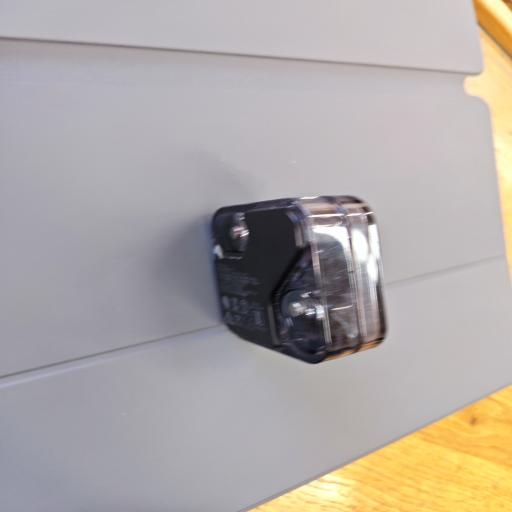Headphones: (204, 186, 392, 369)
